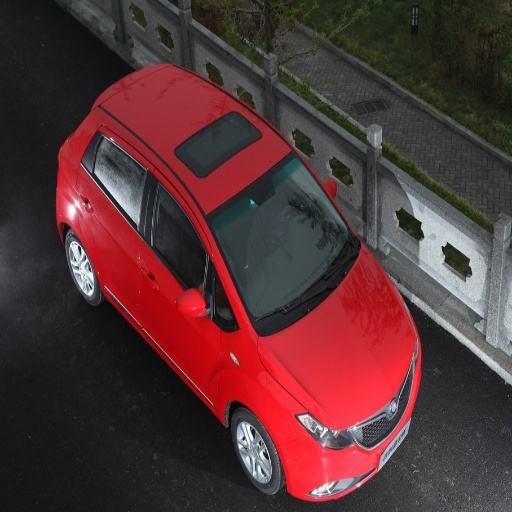front_bumper: (277, 419, 404, 503)
front_right_door: (142, 184, 220, 403)
